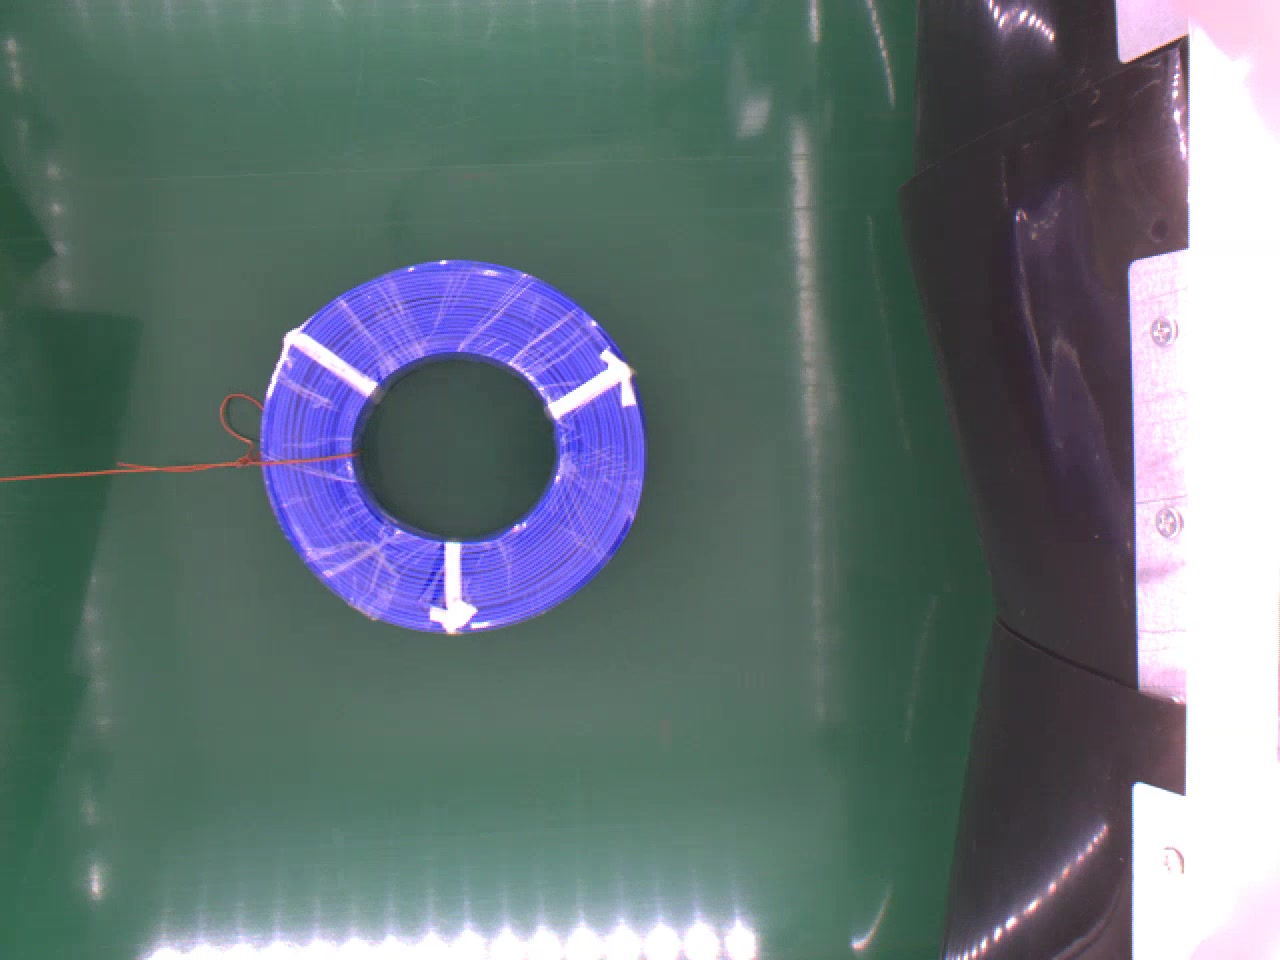blue: (255, 258, 649, 635)
